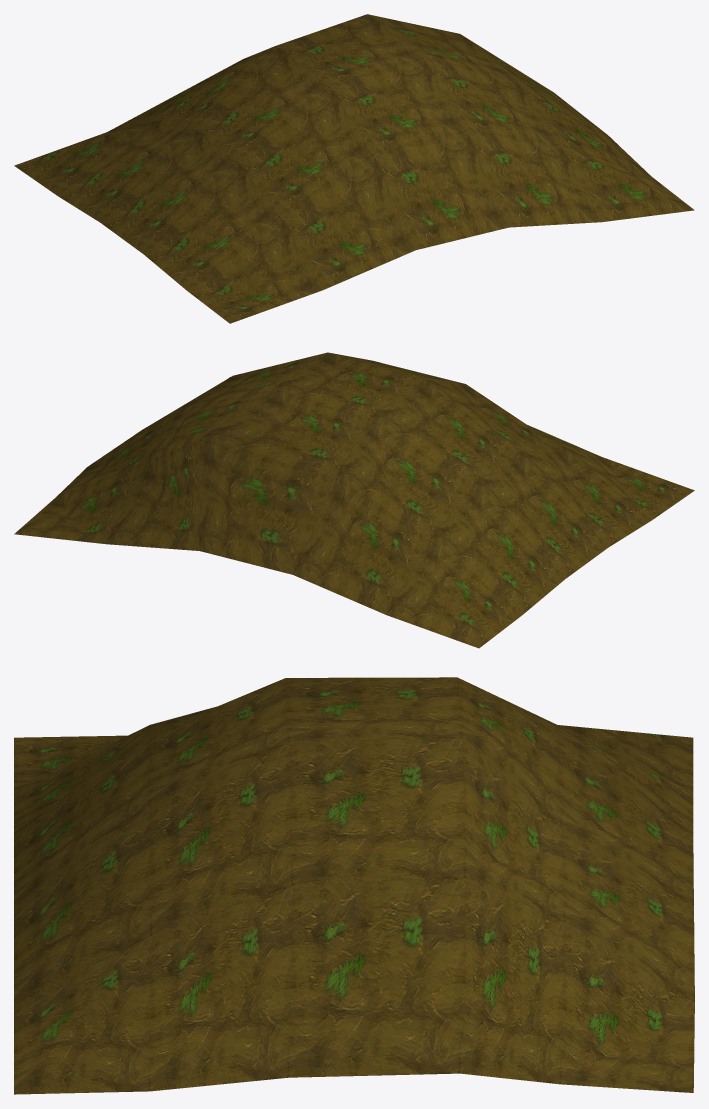
Rendered from MIRKWOOD_AREA4_BARRIERC.fbx.
The picture shows the model from 3 angles, top to bottom: view 1: azimuth 30°, elevation 25°; view 2: azimuth 150°, elevation 25°; view 3: azimuth 270°, elevation 25°; orthographic projection. The views are drawn at different scales.
Visible parts, largest first — view 1: MIRKWOOD_AREA4_BARRIERC; view 2: MIRKWOOD_AREA4_BARRIERC; view 3: MIRKWOOD_AREA4_BARRIERC.
Part boxes in pixels (left/top/right/bottom): MIRKWOOD_AREA4_BARRIERC: left=14, top=14, right=694, bottom=323; MIRKWOOD_AREA4_BARRIERC: left=14, top=352, right=694, bottom=648; MIRKWOOD_AREA4_BARRIERC: left=14, top=677, right=694, bottom=1094.
Size of the model in its own units: 513781 by 144280 by 413558.
Materials: 1 (1 with a texture image).
